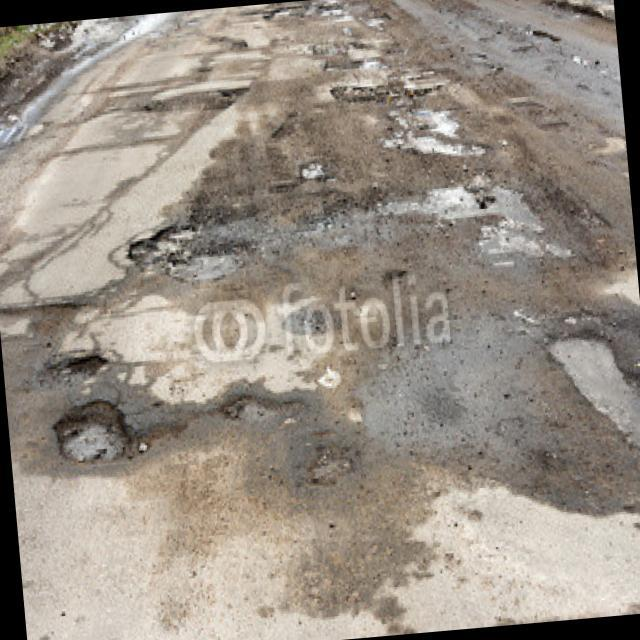Pothole: (542, 318, 640, 433), (123, 218, 244, 286), (50, 386, 135, 470), (431, 173, 510, 227), (406, 119, 489, 170), (50, 347, 104, 384), (300, 158, 326, 180)
